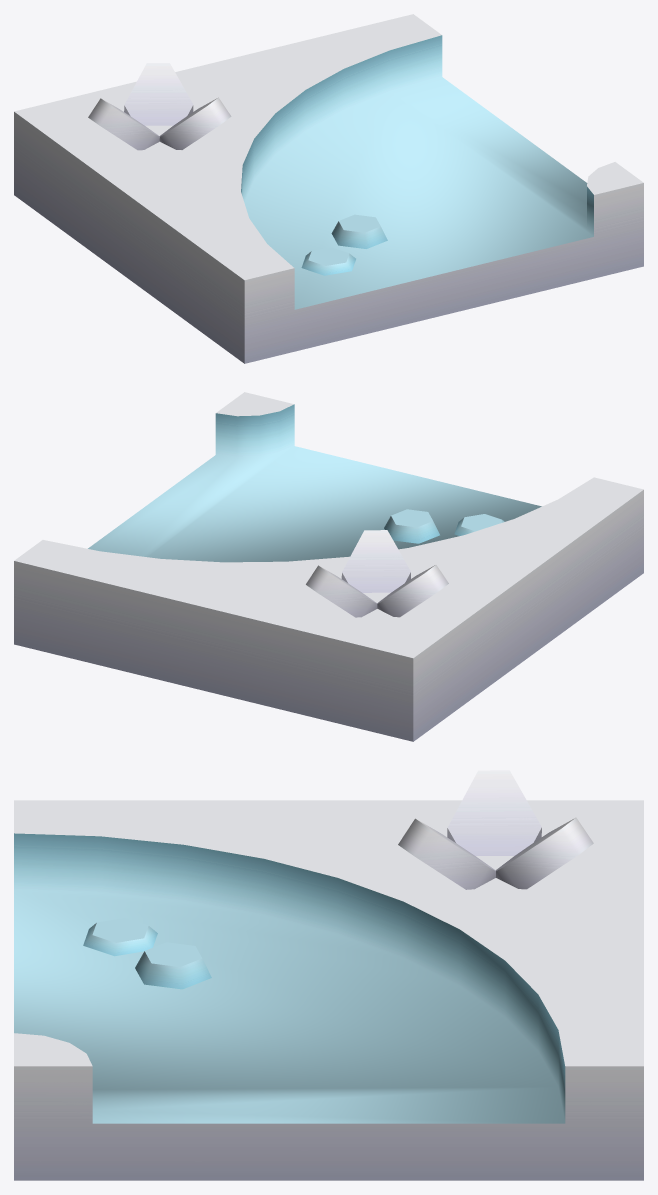
Rendered from snow-tile-corner-round.glb.
The picture shows the model from 3 angles, top to bottom: view 1: azimuth 30°, elevation 25°; view 2: azimuth 150°, elevation 25°; view 3: azimuth 270°, elevation 25°; orthographic projection. The views are drawn at different scales.
Parts seen in each view (by area): view 1: snow-tile-corner-round; view 2: snow-tile-corner-round; view 3: snow-tile-corner-round.
Boxes of the visible parts, <box> form: snow-tile-corner-round: <box>14,14,643,363</box>; snow-tile-corner-round: <box>14,392,643,741</box>; snow-tile-corner-round: <box>14,770,643,1180</box>.
Bounding box in the file's own units: 1 × 0.2961 × 1.
1 material, 1 textured.
